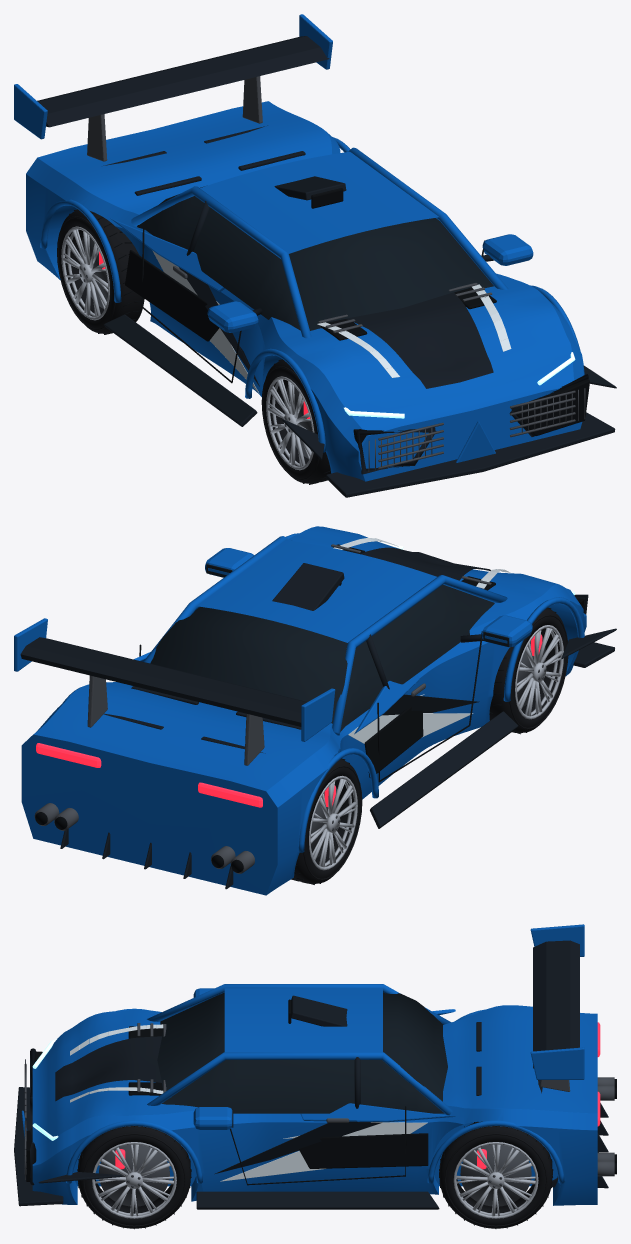
File: apex-gt.glb
3 views of the same model, one above another, from view 1: azimuth 30°, elevation 25°; view 2: azimuth 150°, elevation 25°; view 3: azimuth 270°, elevation 25° (orthographic). The views are drawn at different scales.
Visible parts, largest first — view 1: body, wheel_rl_spin_mesh, wheel_fl_spin_mesh; view 2: body, wheel_fl_spin_mesh, wheel_rl_spin_mesh; view 3: body, wheel_rr_spin_mesh, wheel_fr_spin_mesh.
Part boxes in pixels (<box>): body: <box>14,14,616,497</box>; wheel_rl_spin_mesh: <box>57,209,144,334</box>; wheel_fl_spin_mesh: <box>261,359,330,484</box>; body: <box>14,526,616,895</box>; wheel_fl_spin_mesh: <box>489,607,568,734</box>; wheel_rl_spin_mesh: <box>291,758,362,884</box>; body: <box>14,924,616,1209</box>; wheel_rr_spin_mesh: <box>439,1121,553,1228</box>; wheel_fr_spin_mesh: <box>77,1126,191,1229</box>.
Bounding box in the file's own units: 2.62 × 1.75 × 5.02.
